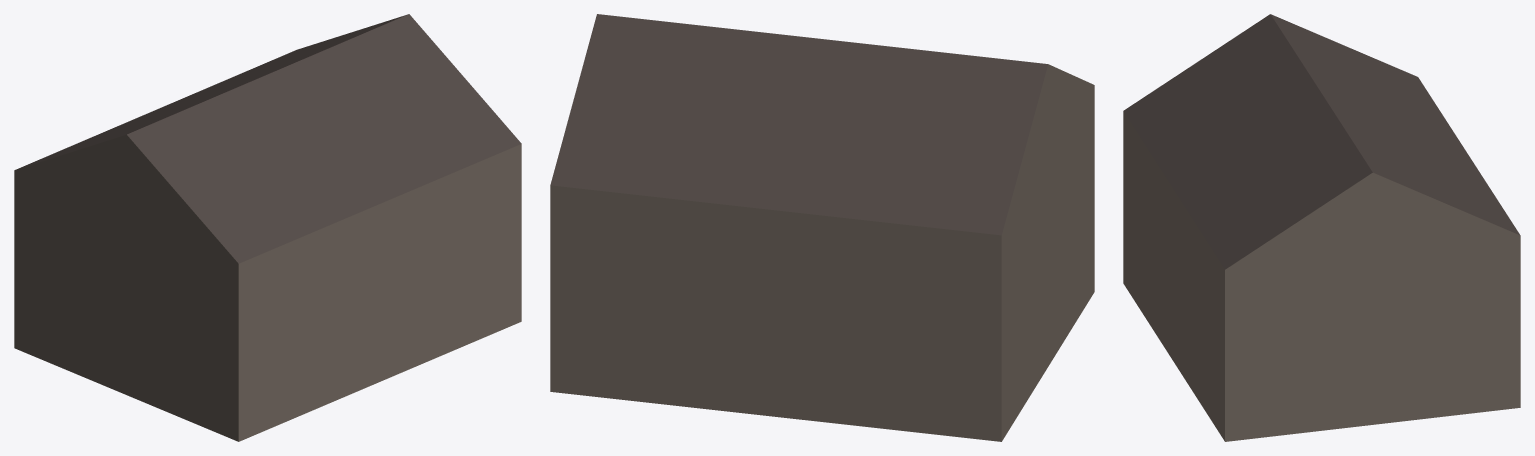
The picture shows the model from 3 angles, left to right: view 1: azimuth 30°, elevation 25°; view 2: azimuth 150°, elevation 25°; view 3: azimuth 270°, elevation 25°; orthographic projection. The views are drawn at different scales.
Parts seen in each view (by area): view 1: HP-w1198843256; view 2: HP-w1198843256; view 3: HP-w1198843256.
Part boxes in pixels (bbox=[...]): HP-w1198843256: bbox=[14, 14, 521, 441]; HP-w1198843256: bbox=[550, 14, 1094, 441]; HP-w1198843256: bbox=[1123, 14, 1520, 441].
Size of the model in its own units: 14.41 by 8.79 by 12.55.
